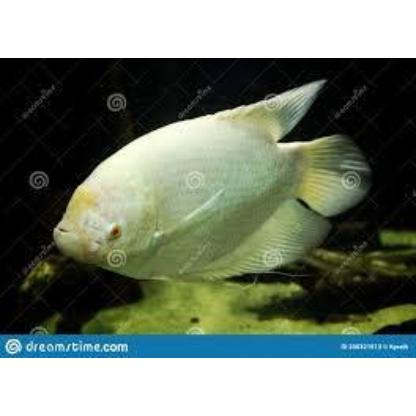gurame: (52, 79, 368, 283)
